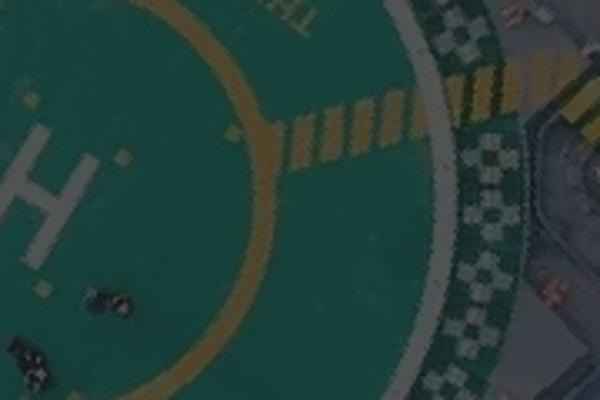Apron: (1, 1, 289, 393)
